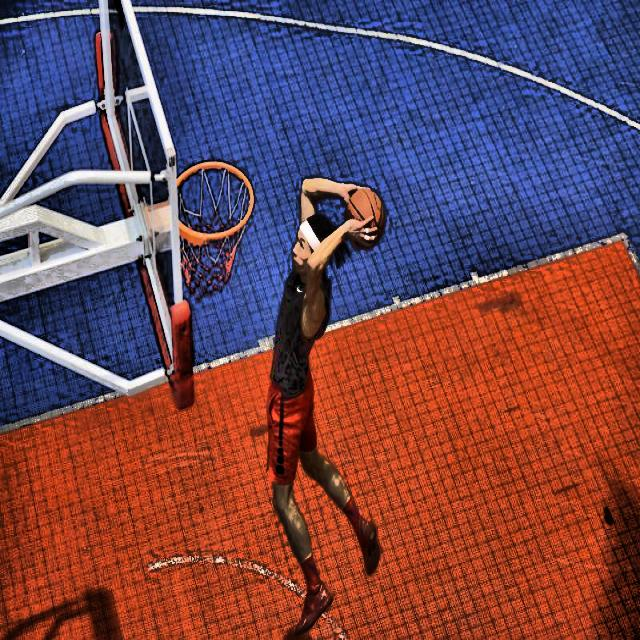board: (346, 186, 381, 246)
rim: (179, 161, 255, 301)
